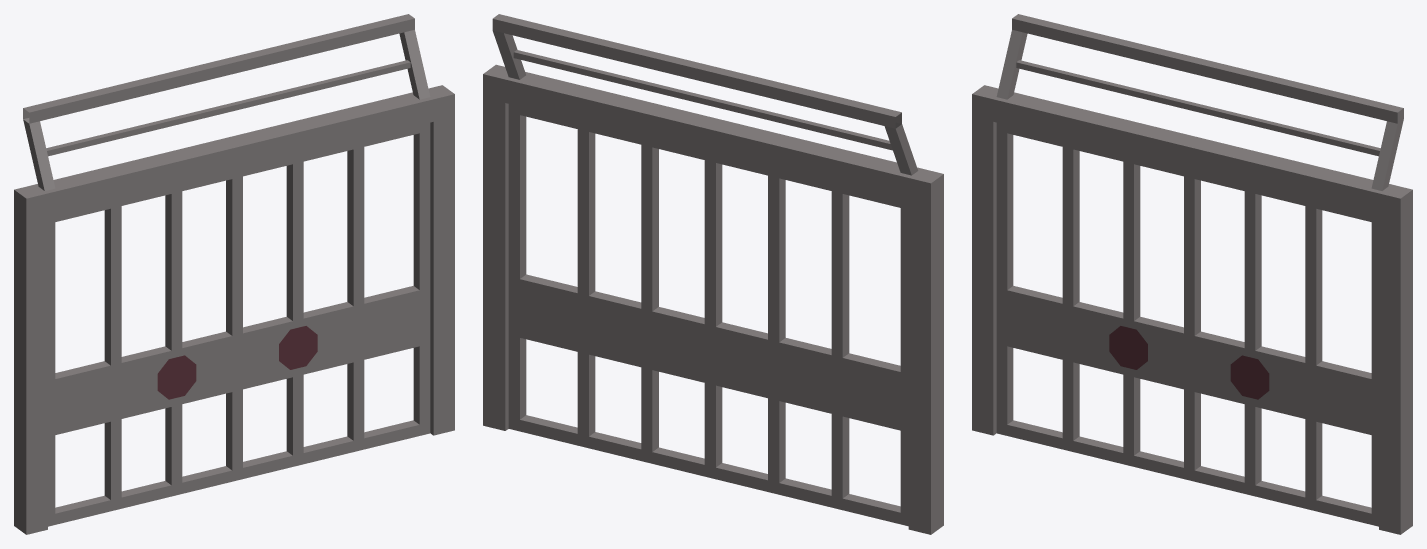
Rendered from military-gate.fbx.
3 views of the same model, side by side, from view 1: azimuth 30°, elevation 25°; view 2: azimuth 150°, elevation 25°; view 3: azimuth 330°, elevation 25° (orthographic). The views are drawn at different scales.
Parts seen in each view (by area): view 1: military-gate-main, military-gate-frame; view 2: military-gate-main, military-gate-frame; view 3: military-gate-main, military-gate-frame.
Boxes of the visible parts, x1,y1,x2,y2 form: military-gate-main: (48, 122, 430, 526); military-gate-frame: (14, 14, 454, 534); military-gate-main: (508, 104, 908, 526); military-gate-frame: (483, 14, 943, 534); military-gate-main: (996, 122, 1378, 526); military-gate-frame: (972, 14, 1412, 534).
Bounding box in the file's own units: 4 × 3.6 × 0.4.
